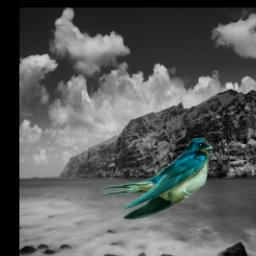Swallow: (100, 138, 213, 220)
